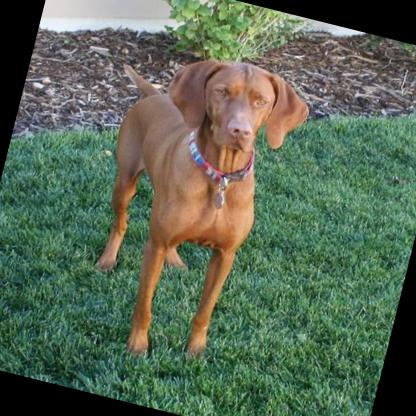vizsla: (55, 32, 317, 380)
